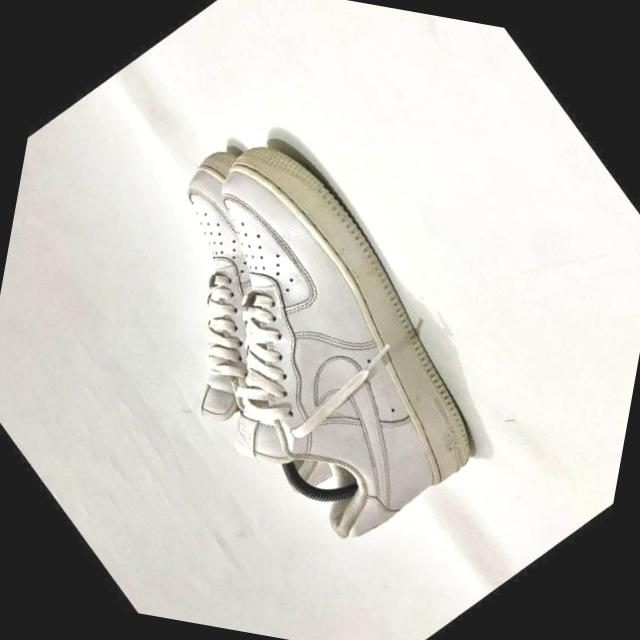nike_original_airforce: (51, 96, 558, 598), (42, 114, 469, 539)
